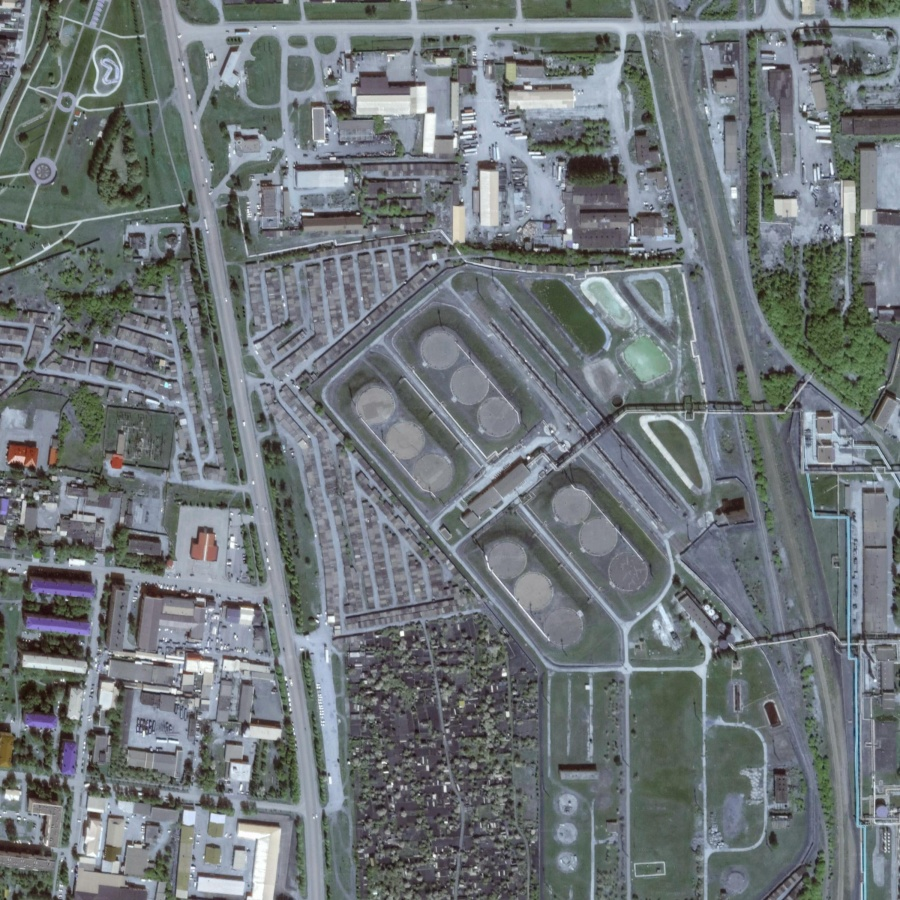PowerPlant: (337, 290, 670, 656)
